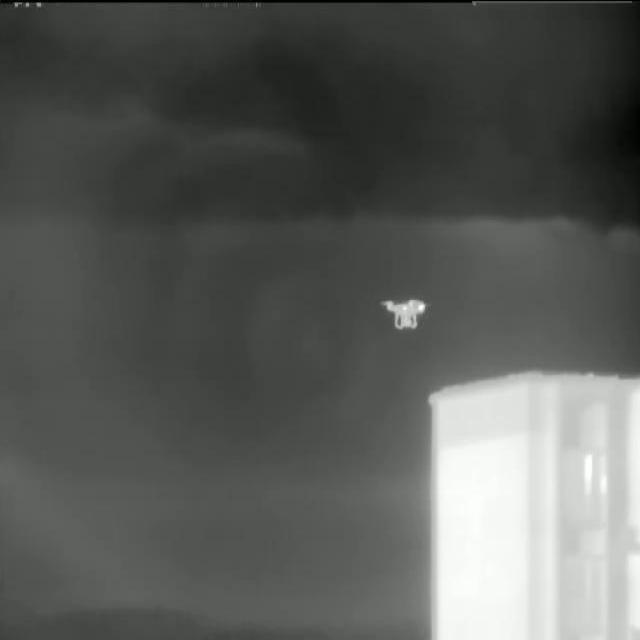DRONE: (381, 297, 433, 332)
